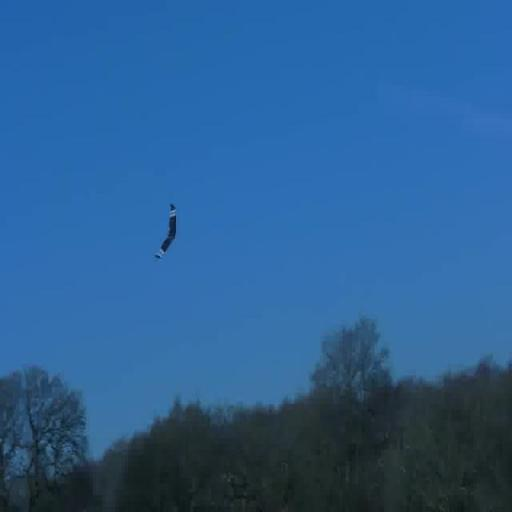uav: (154, 200, 184, 270)
